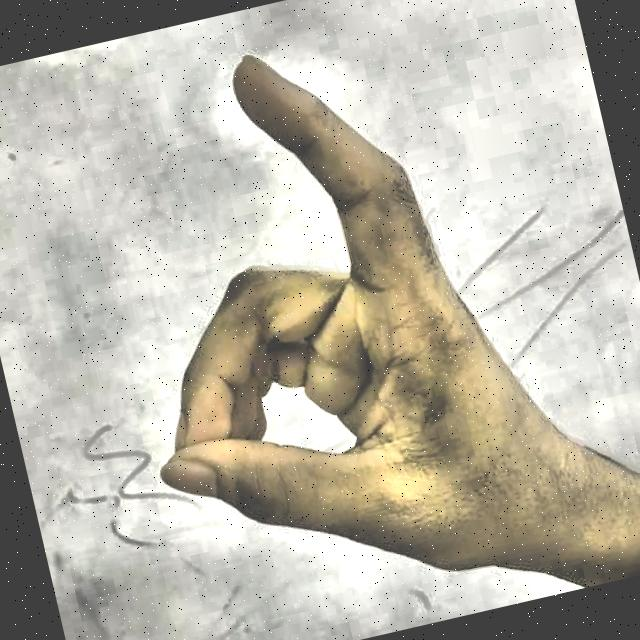Dha: (51, 0, 621, 640)
